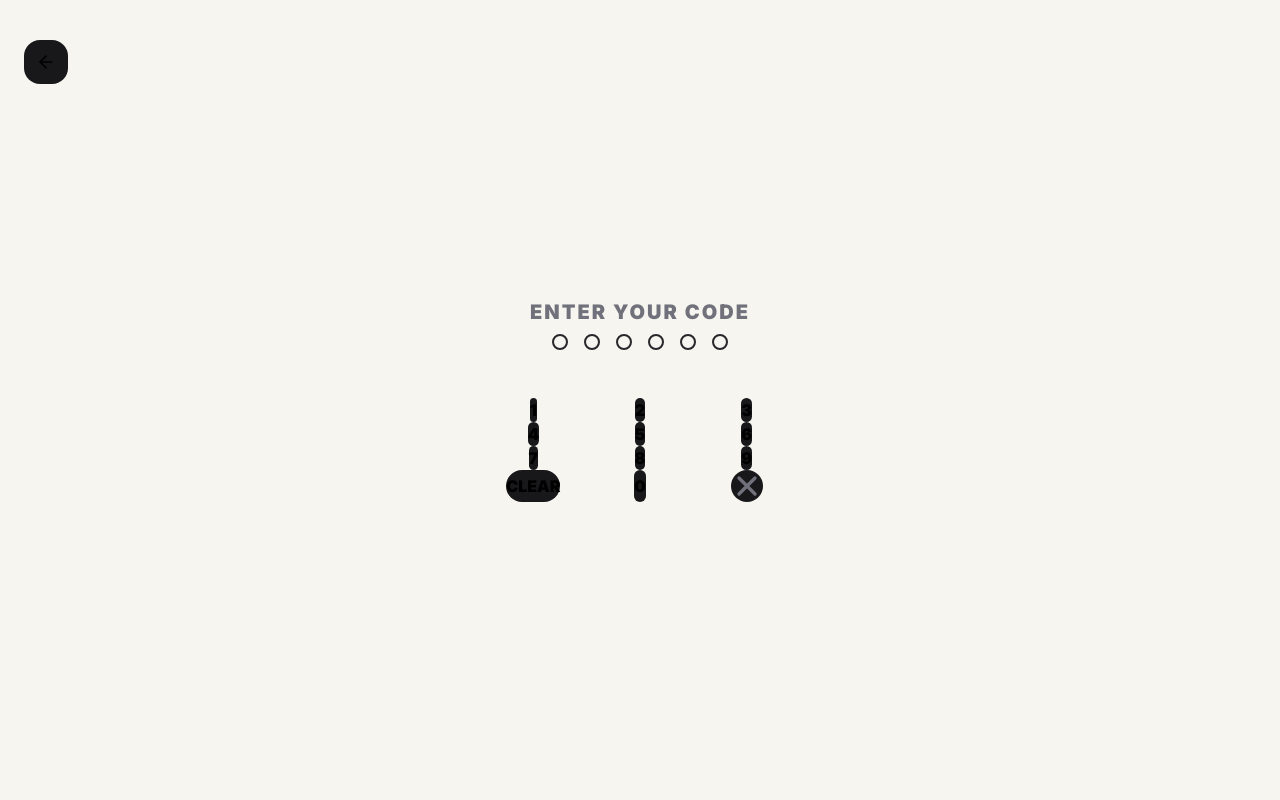
Test: PasscodeModal › shows "Wrong Code" after an incorrect six-digit entry
Click the button "0": (640, 486) [634,470,646,502]
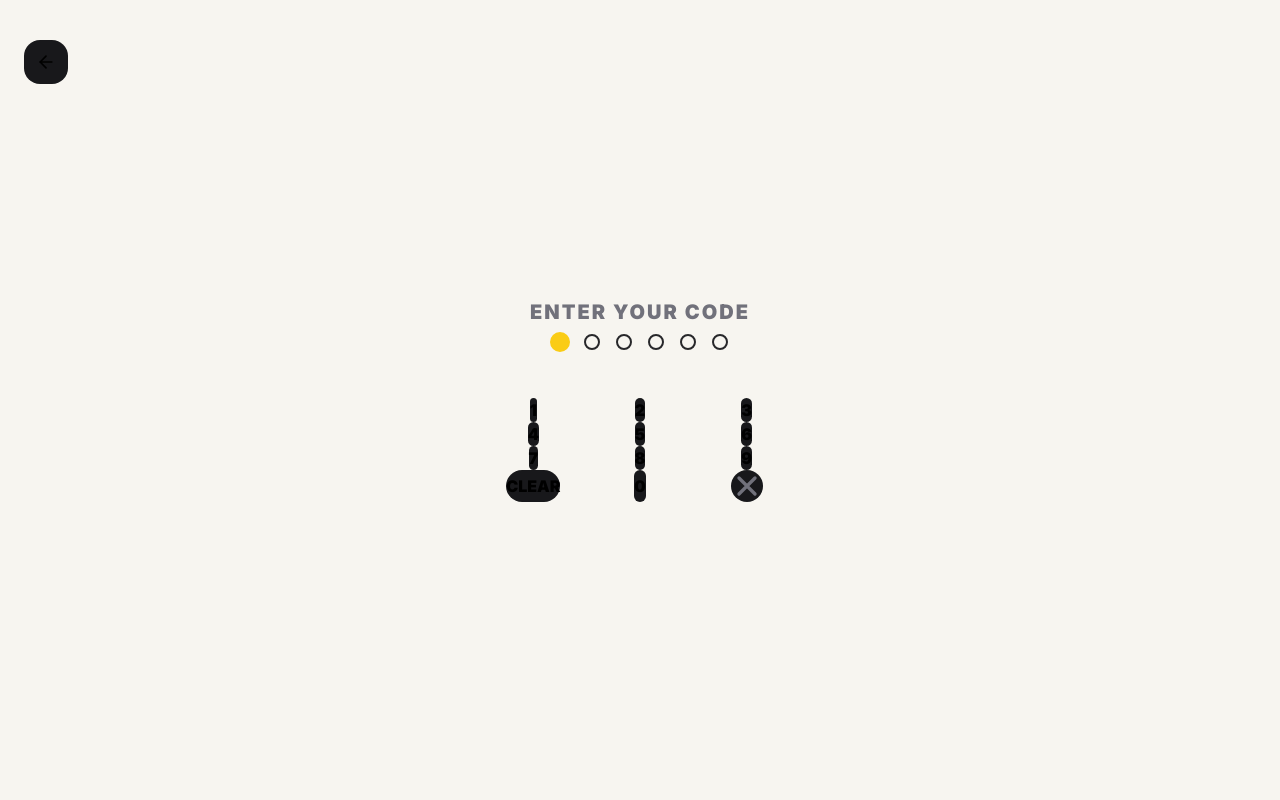
Click the button "0": (640, 486) [634,470,646,502]
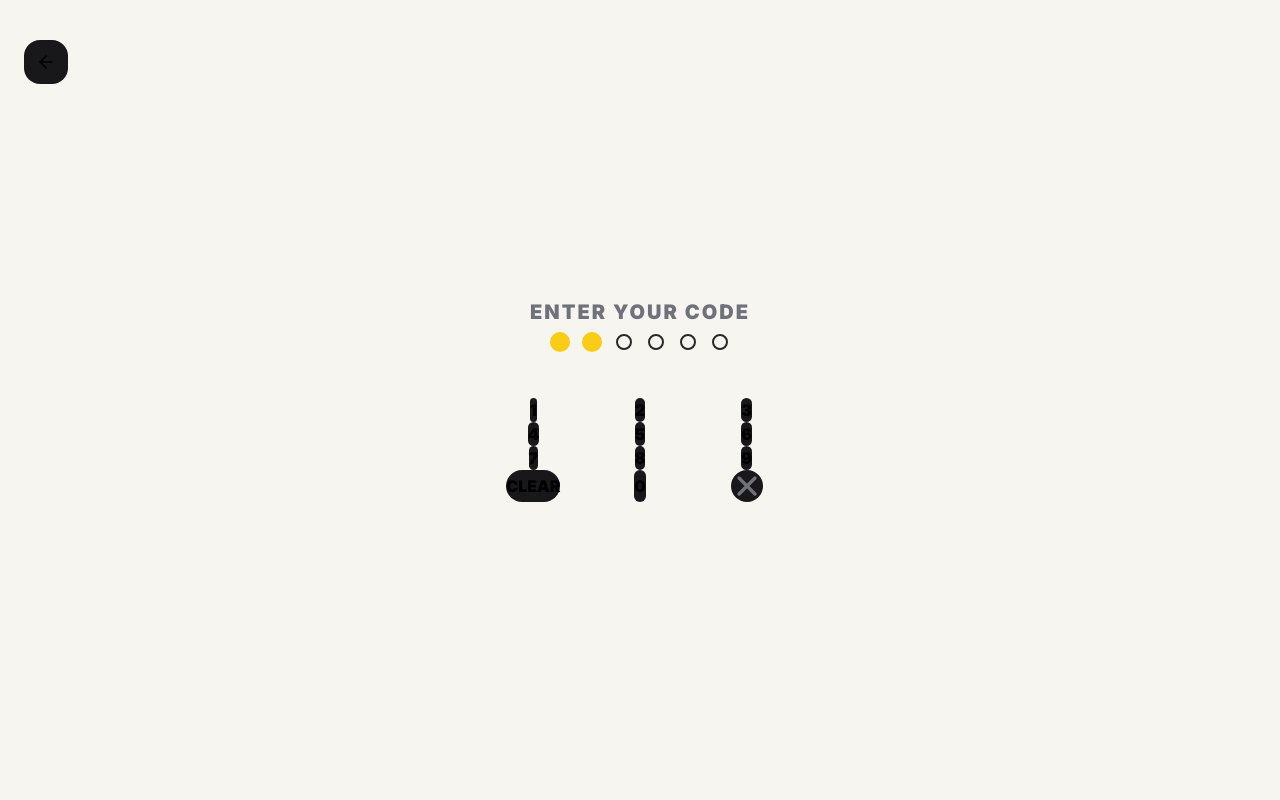
Click the button "0": (640, 486) [634,470,646,502]
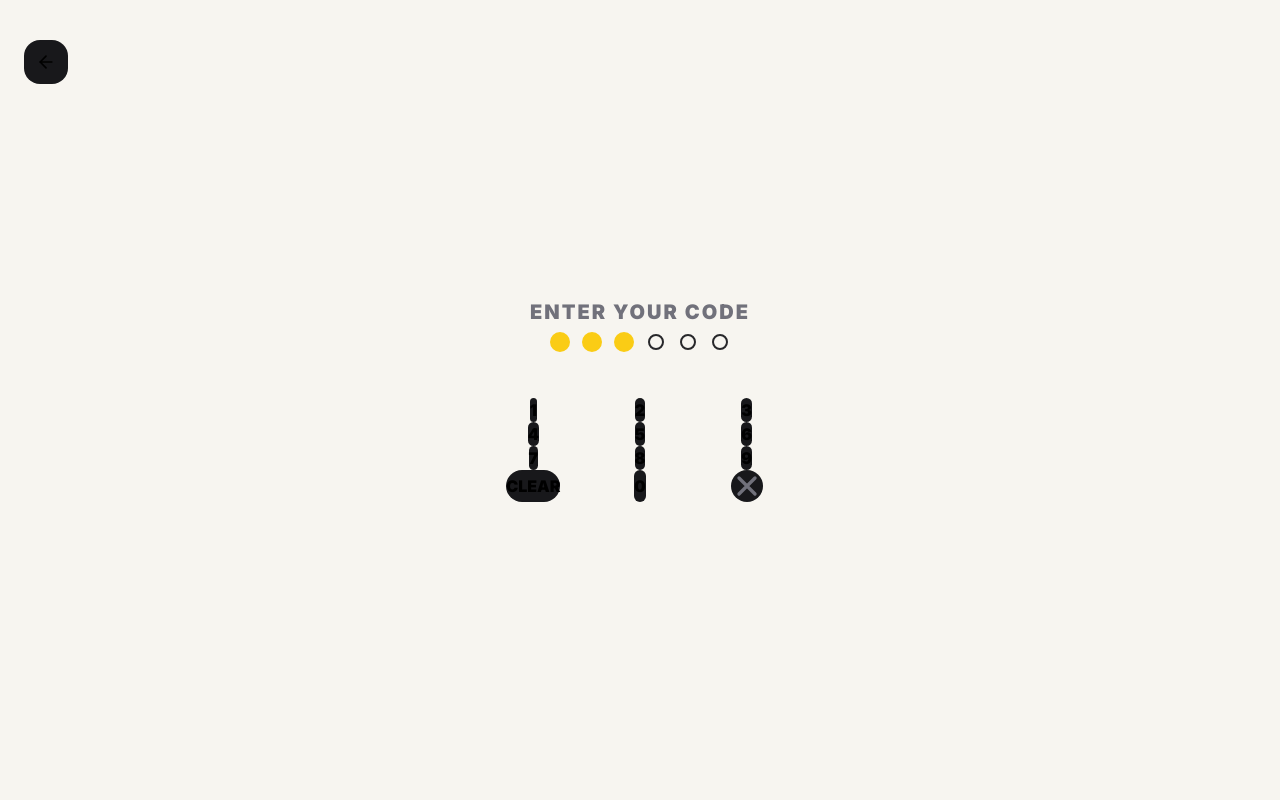
Click the button "0": (640, 486) [634,470,646,502]
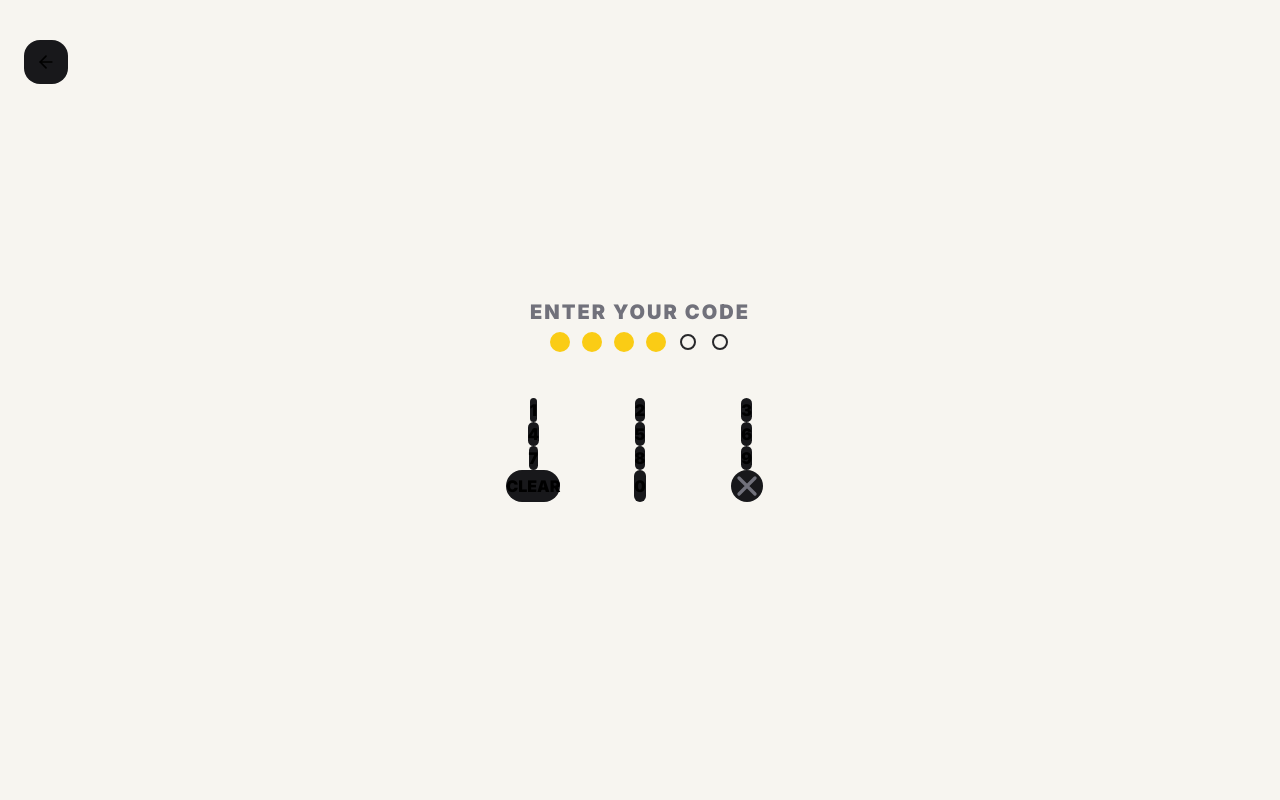
Click the button "0": (640, 486) [634,470,646,502]
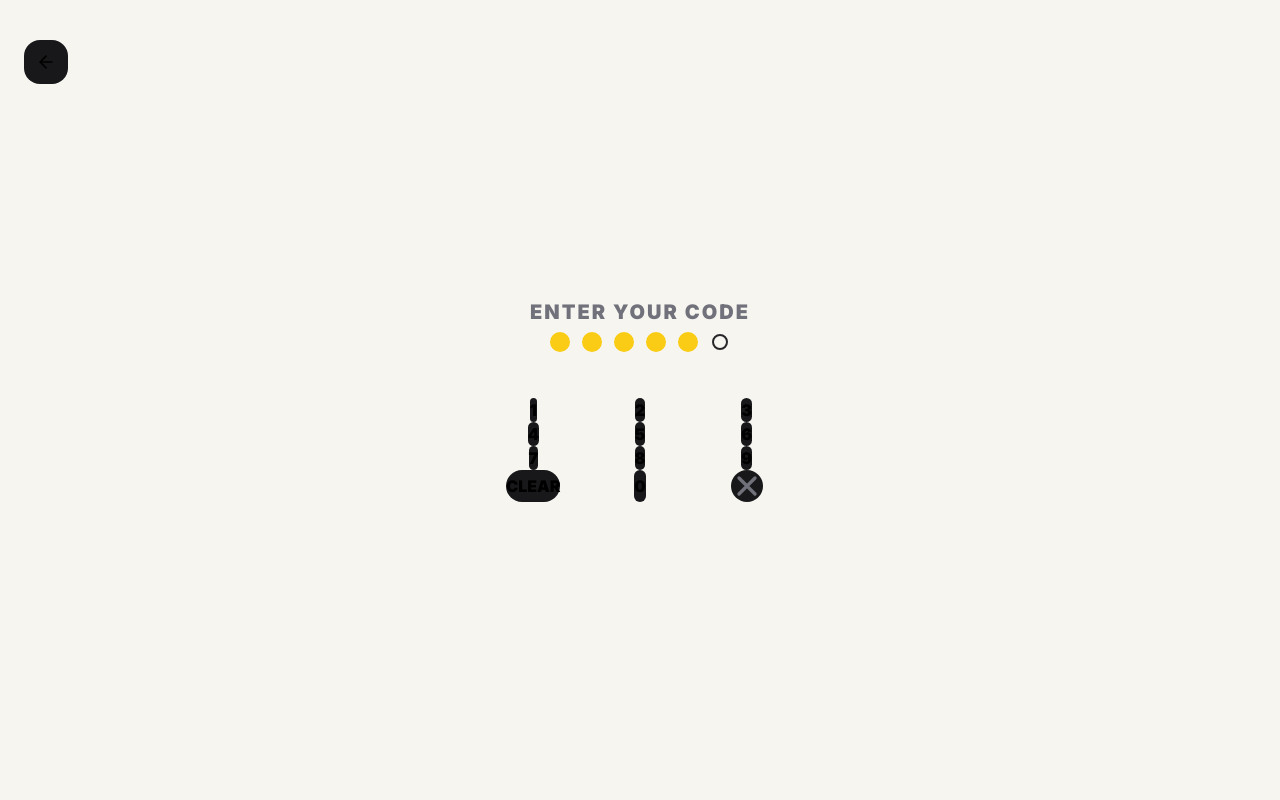
Click the button "0": (640, 486) [634,470,646,502]
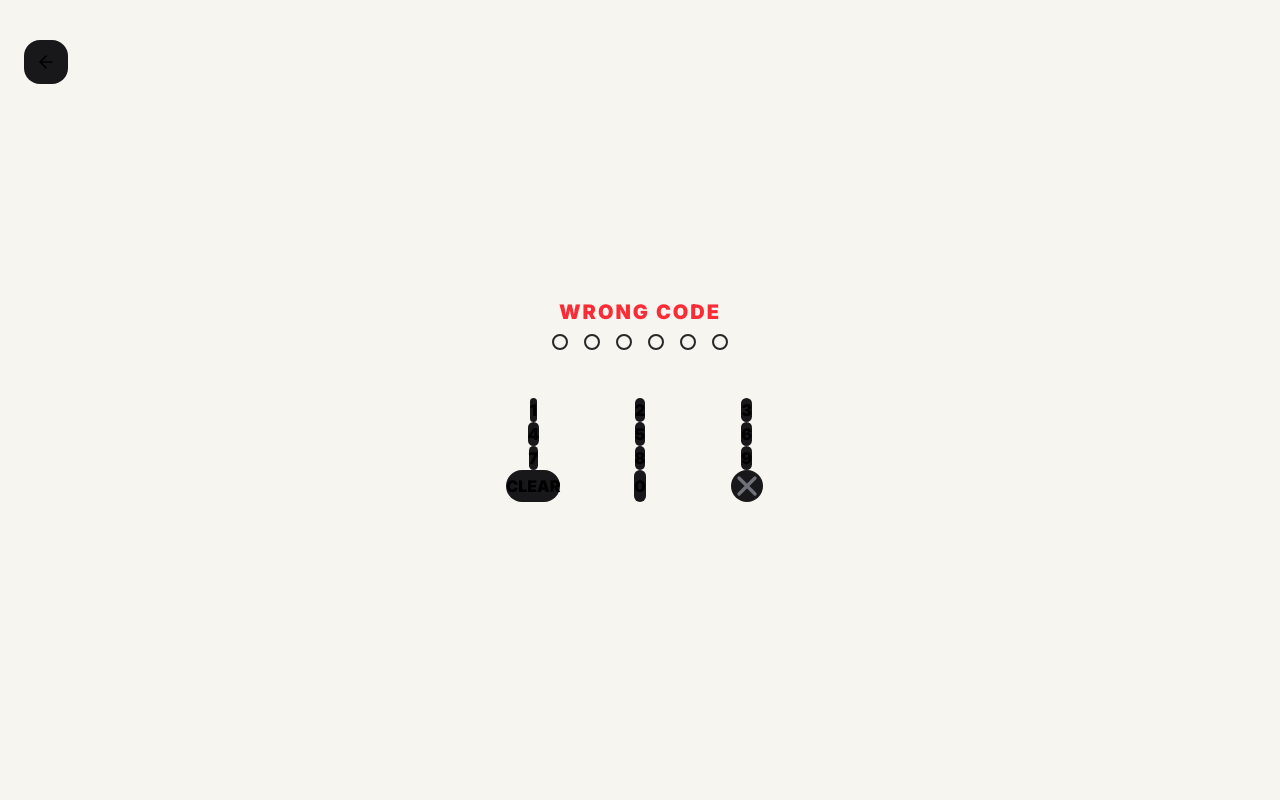
Expected: the heading "Wrong Code" is shown, [559,298,721,326]
